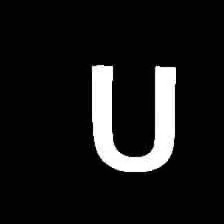LTR_U: (83, 51, 181, 179)
